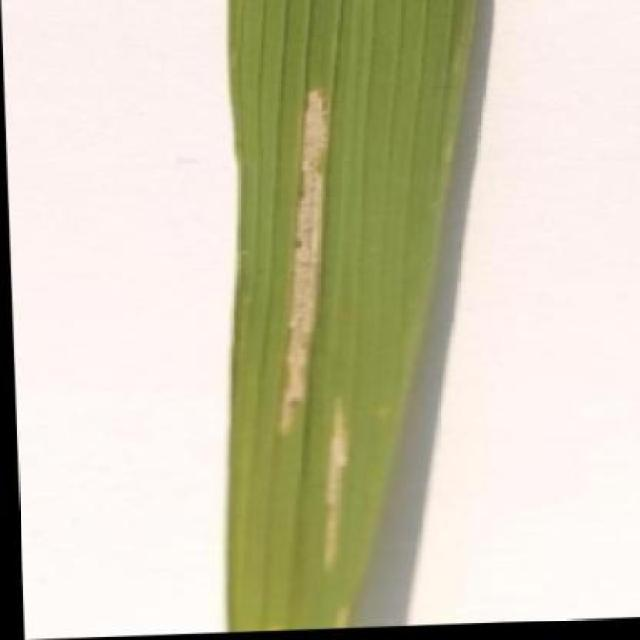Brown_Spot: (219, 0, 499, 623)
